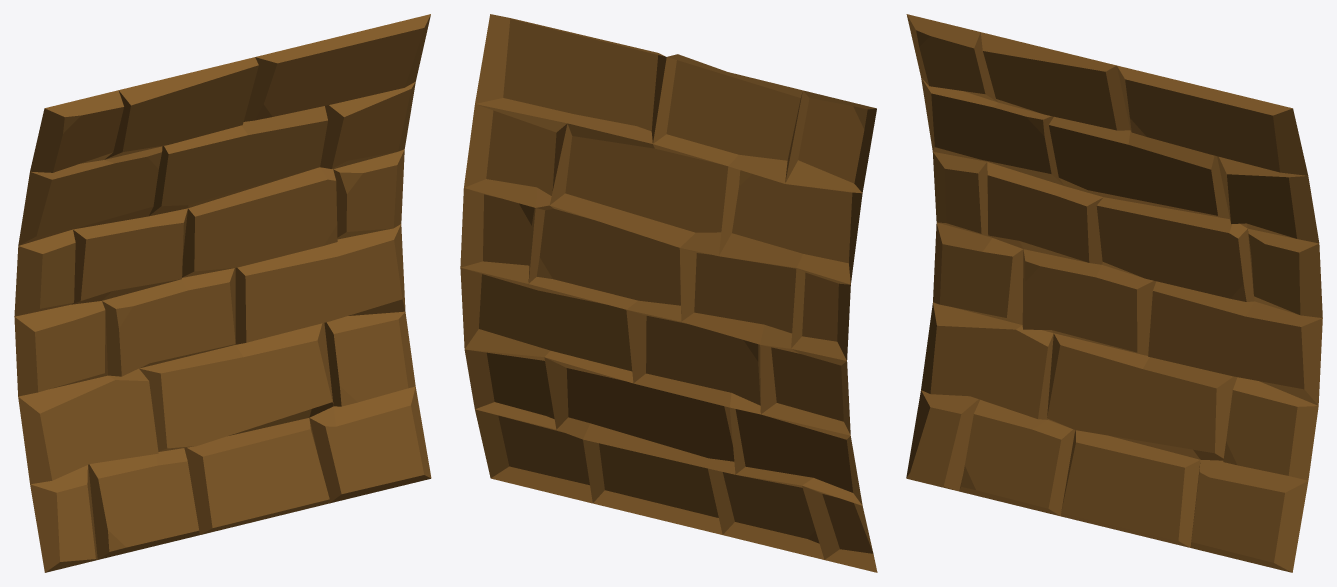
The model's file is Cave_Wall02.fbx.
3 renders of one model, left to right at view 1: azimuth 30°, elevation 25°; view 2: azimuth 150°, elevation 25°; view 3: azimuth 330°, elevation 25°, orthographic.
Visible parts, largest first — view 1: Cave_Wall01.002; view 2: Cave_Wall01.002; view 3: Cave_Wall01.002.
Part boxes in pixels (bbox=[...]): Cave_Wall01.002: bbox=[14, 14, 431, 572]; Cave_Wall01.002: bbox=[460, 14, 877, 572]; Cave_Wall01.002: bbox=[906, 14, 1322, 572].
Size of the model in its own units: 2654 by 3046 by 448.
